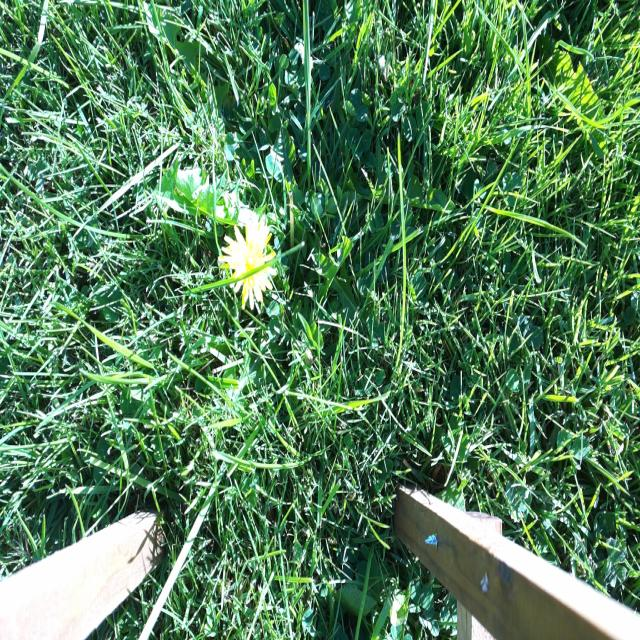flower: (219, 216, 279, 304)
